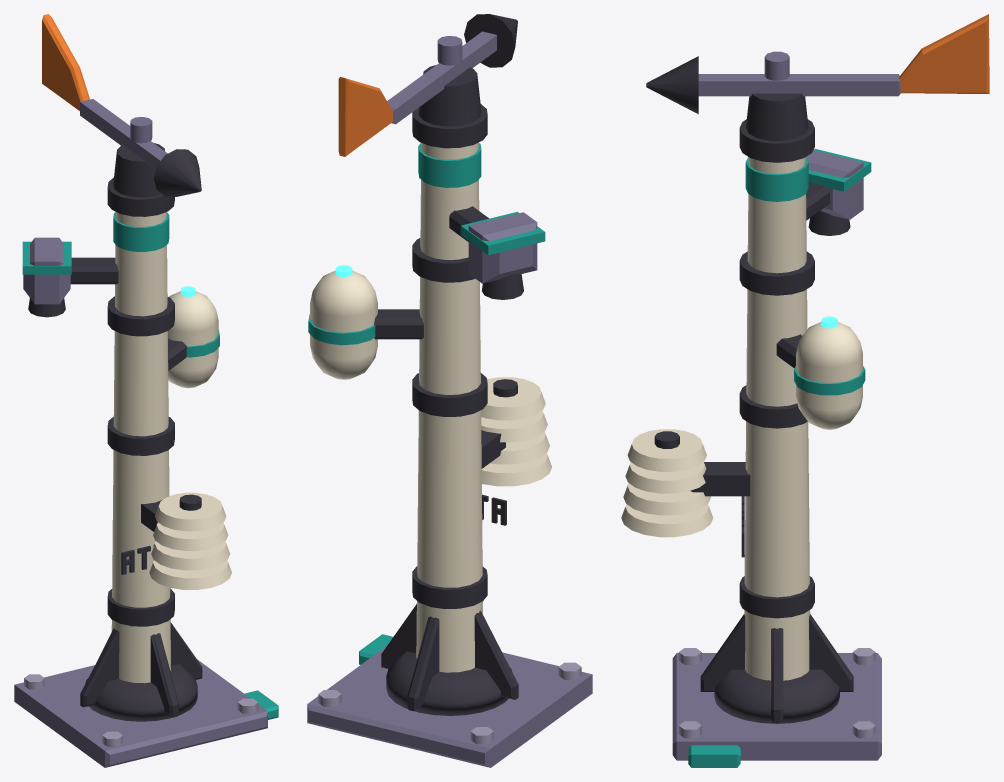
Rendered from atmo_sensor.glb.
3 renders of one model, left to right at view 1: azimuth 30°, elevation 25°; view 2: azimuth 150°, elevation 25°; view 3: azimuth 270°, elevation 25°, orthographic. The views are drawn at different scales.
Parts seen in each view (by area): view 1: mast_creamHull, mast_graphite, plate_purpleGrey, vane_graphite, plate_teal, vane_orange, vane_purpleGrey, plate_purpleGreyLight; view 2: mast_creamHull, mast_graphite, plate_purpleGrey, plate_teal, vane_graphite, vane_purpleGrey, vane_orange, plate_purpleGreyLight; view 3: mast_creamHull, mast_graphite, plate_purpleGrey, vane_purpleGrey, plate_teal, vane_orange, vane_graphite, plate_purpleGreyLight.
Part boxes in pixels (box(x1,y1,x2,y2)): mast_creamHull: box(111, 212, 231, 683); mast_graphite: box(28, 177, 202, 721); plate_purpleGrey: box(14, 237, 267, 767); vane_graphite: box(113, 143, 201, 197); plate_teal: box(22, 212, 278, 719); vane_orange: box(42, 14, 89, 110); vane_purpleGrey: box(80, 99, 167, 170); plate_purpleGreyLight: box(24, 674, 258, 746); mast_creamHull: box(310, 142, 551, 672); mast_graphite: box(374, 104, 523, 715); plate_purpleGrey: box(307, 212, 592, 767); plate_teal: box(308, 143, 545, 664); vane_graphite: box(418, 14, 517, 126); vane_purpleGrey: box(387, 31, 496, 124); vane_orange: box(338, 77, 392, 156); plate_purpleGreyLight: box(318, 662, 581, 744); mast_creamHull: box(621, 157, 862, 680); mast_graphite: box(654, 119, 853, 723); plate_purpleGrey: box(672, 150, 881, 760); vane_purpleGrey: box(698, 51, 900, 96); plate_teal: box(688, 149, 871, 767); vane_orange: box(899, 14, 989, 94); vane_graphite: box(646, 56, 808, 140); plate_purpleGreyLight: box(678, 648, 875, 738).
Size of the model in its own units: 0.2456 by 0.7387 by 0.352.
